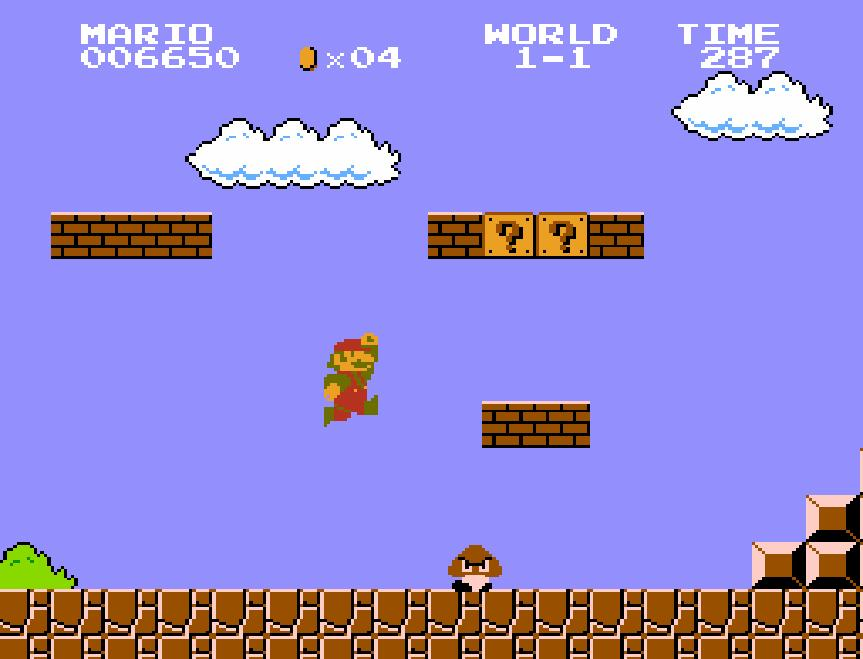big_mario: (322, 330, 380, 429)
